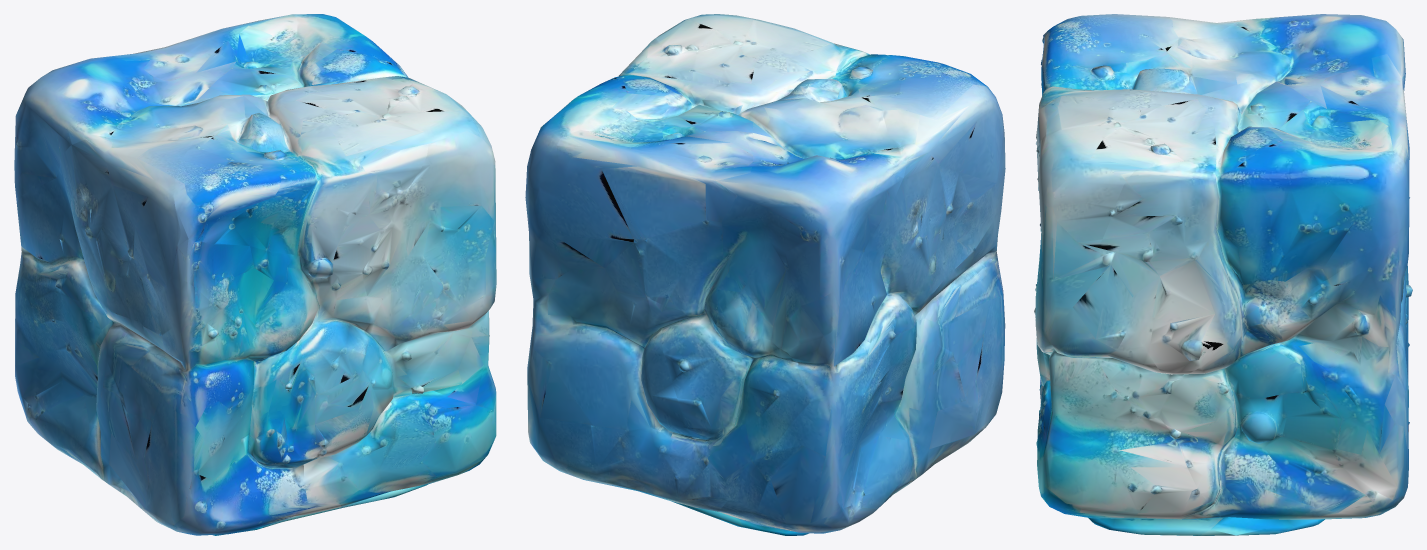
File: buz_kup_2_parcali.glb
3 renders of one model, left to right at view 1: azimuth 30°, elevation 25°; view 2: azimuth 150°, elevation 25°; view 3: azimuth 270°, elevation 25°, orthographic. The views are drawn at different scales.
Visible parts, largest first — view 1: p07, p06, p08, p00, p11, p09, p04, p05, p03, p02; view 2: p08, p01, p11, p00, p10, p06, p02, p07, p03; view 3: p02, p01, p08, p04, p05, p06, p03, p00.
Part boxes in pixels (x1,y1,x2,y2): p07: [142, 278, 341, 535]; p06: [174, 87, 428, 271]; p08: [14, 14, 307, 202]; p00: [16, 138, 195, 322]; p11: [15, 274, 162, 524]; p09: [171, 234, 372, 402]; p04: [357, 193, 496, 408]; p05: [263, 384, 496, 527]; p03: [305, 84, 495, 310]; p02: [296, 14, 450, 97]; p08: [557, 90, 907, 351]; p01: [525, 187, 719, 519]; p11: [718, 266, 982, 535]; p00: [787, 90, 1003, 398]; p10: [647, 298, 811, 511]; p06: [714, 20, 1002, 115]; p02: [526, 38, 697, 206]; p07: [951, 158, 1005, 431]; p03: [655, 14, 762, 105]; p02: [1093, 126, 1409, 383]; p01: [1159, 218, 1409, 535]; p08: [1168, 14, 1409, 198]; p04: [1034, 235, 1170, 457]; p05: [1036, 335, 1235, 535]; p06: [1035, 15, 1225, 183]; p03: [1038, 113, 1241, 257]; p00: [1098, 14, 1240, 41].
Size of the model in its own units: 0.9151 by 0.9812 by 0.8726.
2 materials, 1 textured.
